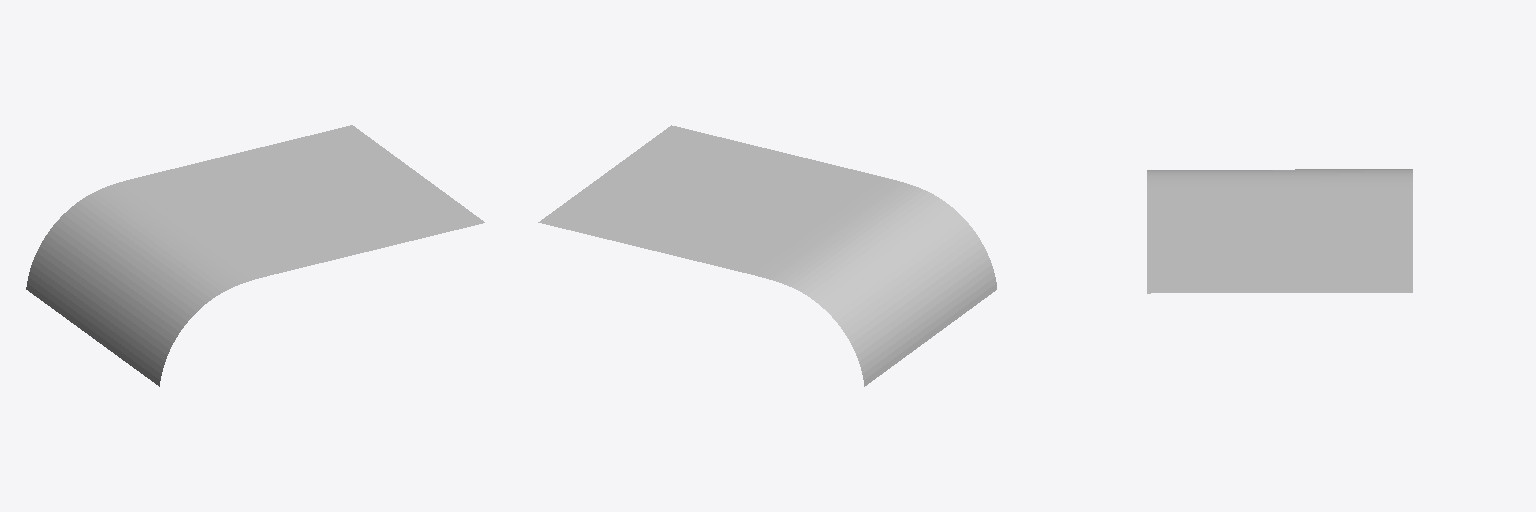
File: CurvePaper_000057.obj
3 renders of one model, left to right at view 1: azimuth 30°, elevation 25°; view 2: azimuth 150°, elevation 25°; view 3: azimuth 270°, elevation 25°, orthographic.
Parts seen in each view (by area): view 1: Plane; view 2: Plane; view 3: Plane.
Boxes of the visible parts, x1=… form: Plane: x1=26, y1=125, x2=484, y2=386; Plane: x1=538, y1=125, x2=996, y2=386; Plane: x1=1147, y1=169, x2=1412, y2=293.
Bounding box in the file's own units: 3.2 × 0.7935 × 2.26.